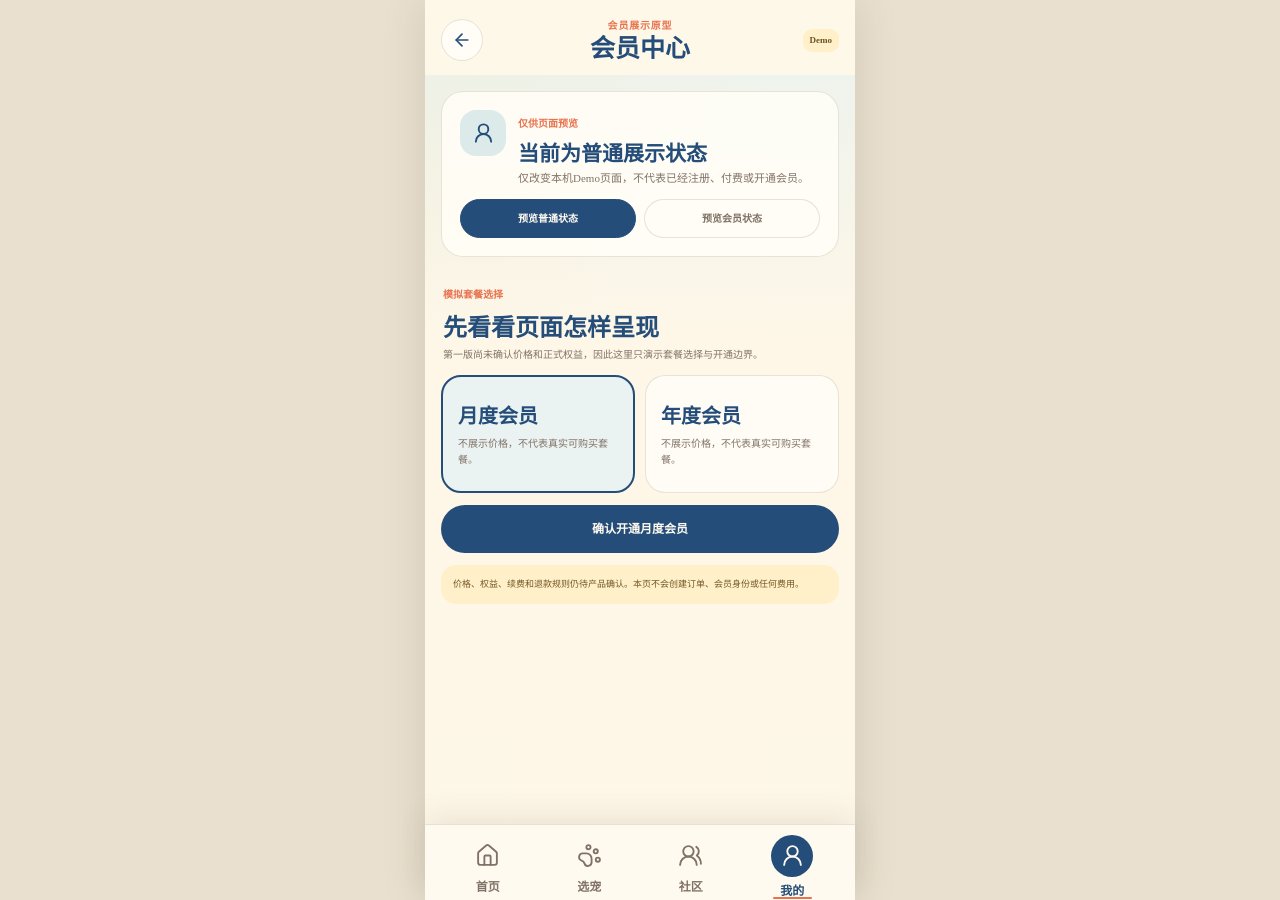
Scenario: T39会员中心和我的原型 › 选择会员套餐后仍阻止真实开通，不产生成功或订单
Click the button with aria-label "选择年度会员": (742, 434) [645,375,839,493]
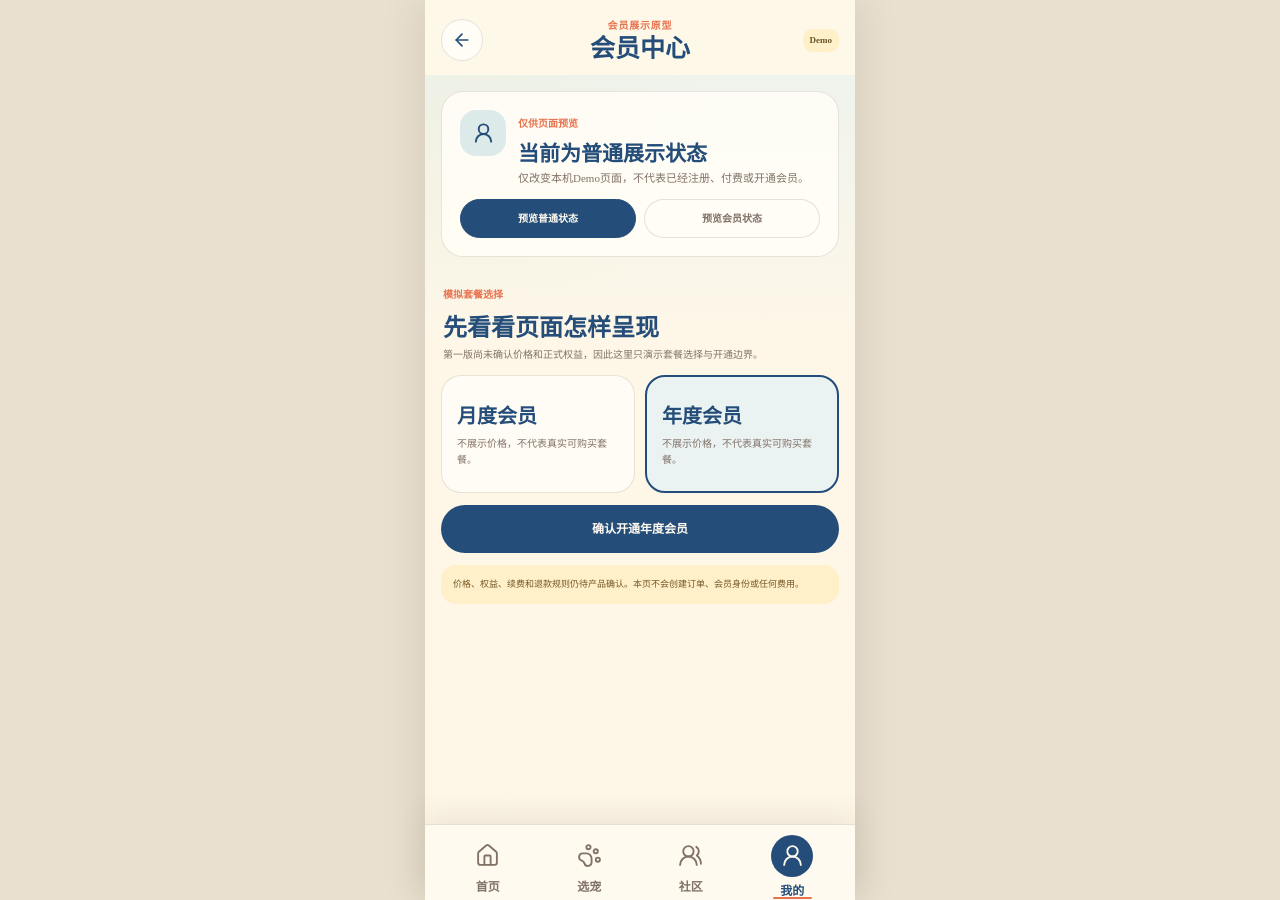
Result: the button with aria-label "选择年度会员" is pressed at [645,375,839,493]
Click the button "确认开通年度会员": (640, 529) [441,505,839,553]
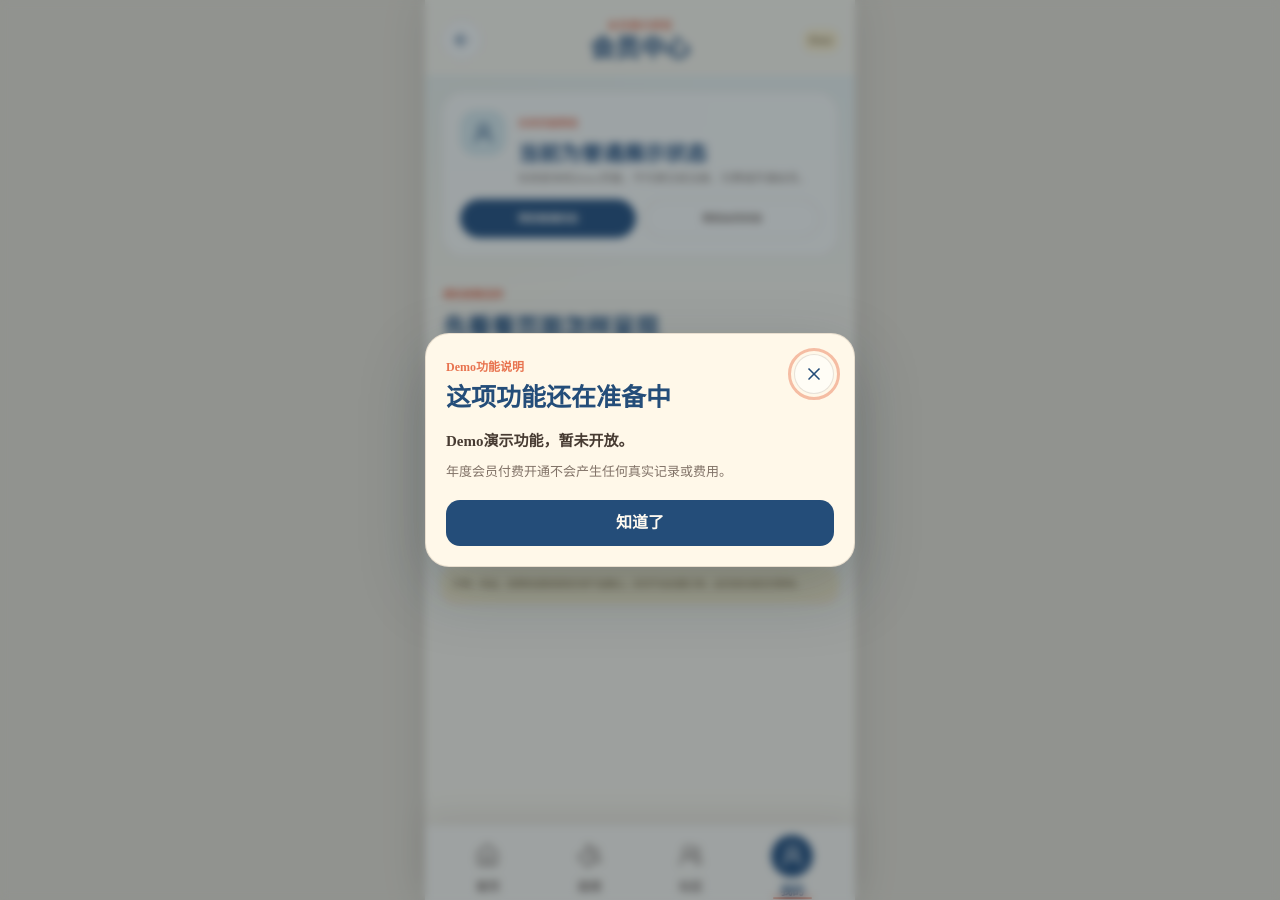
Result: the text "Demo演示功能，暂未开放。" is shown at [446,433,634,449]
